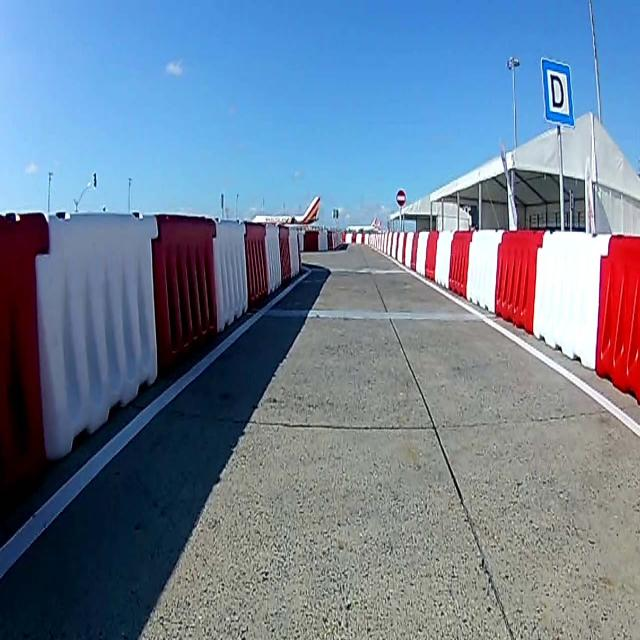durak: (540, 58, 574, 128)
girisyok: (396, 189, 406, 207)
